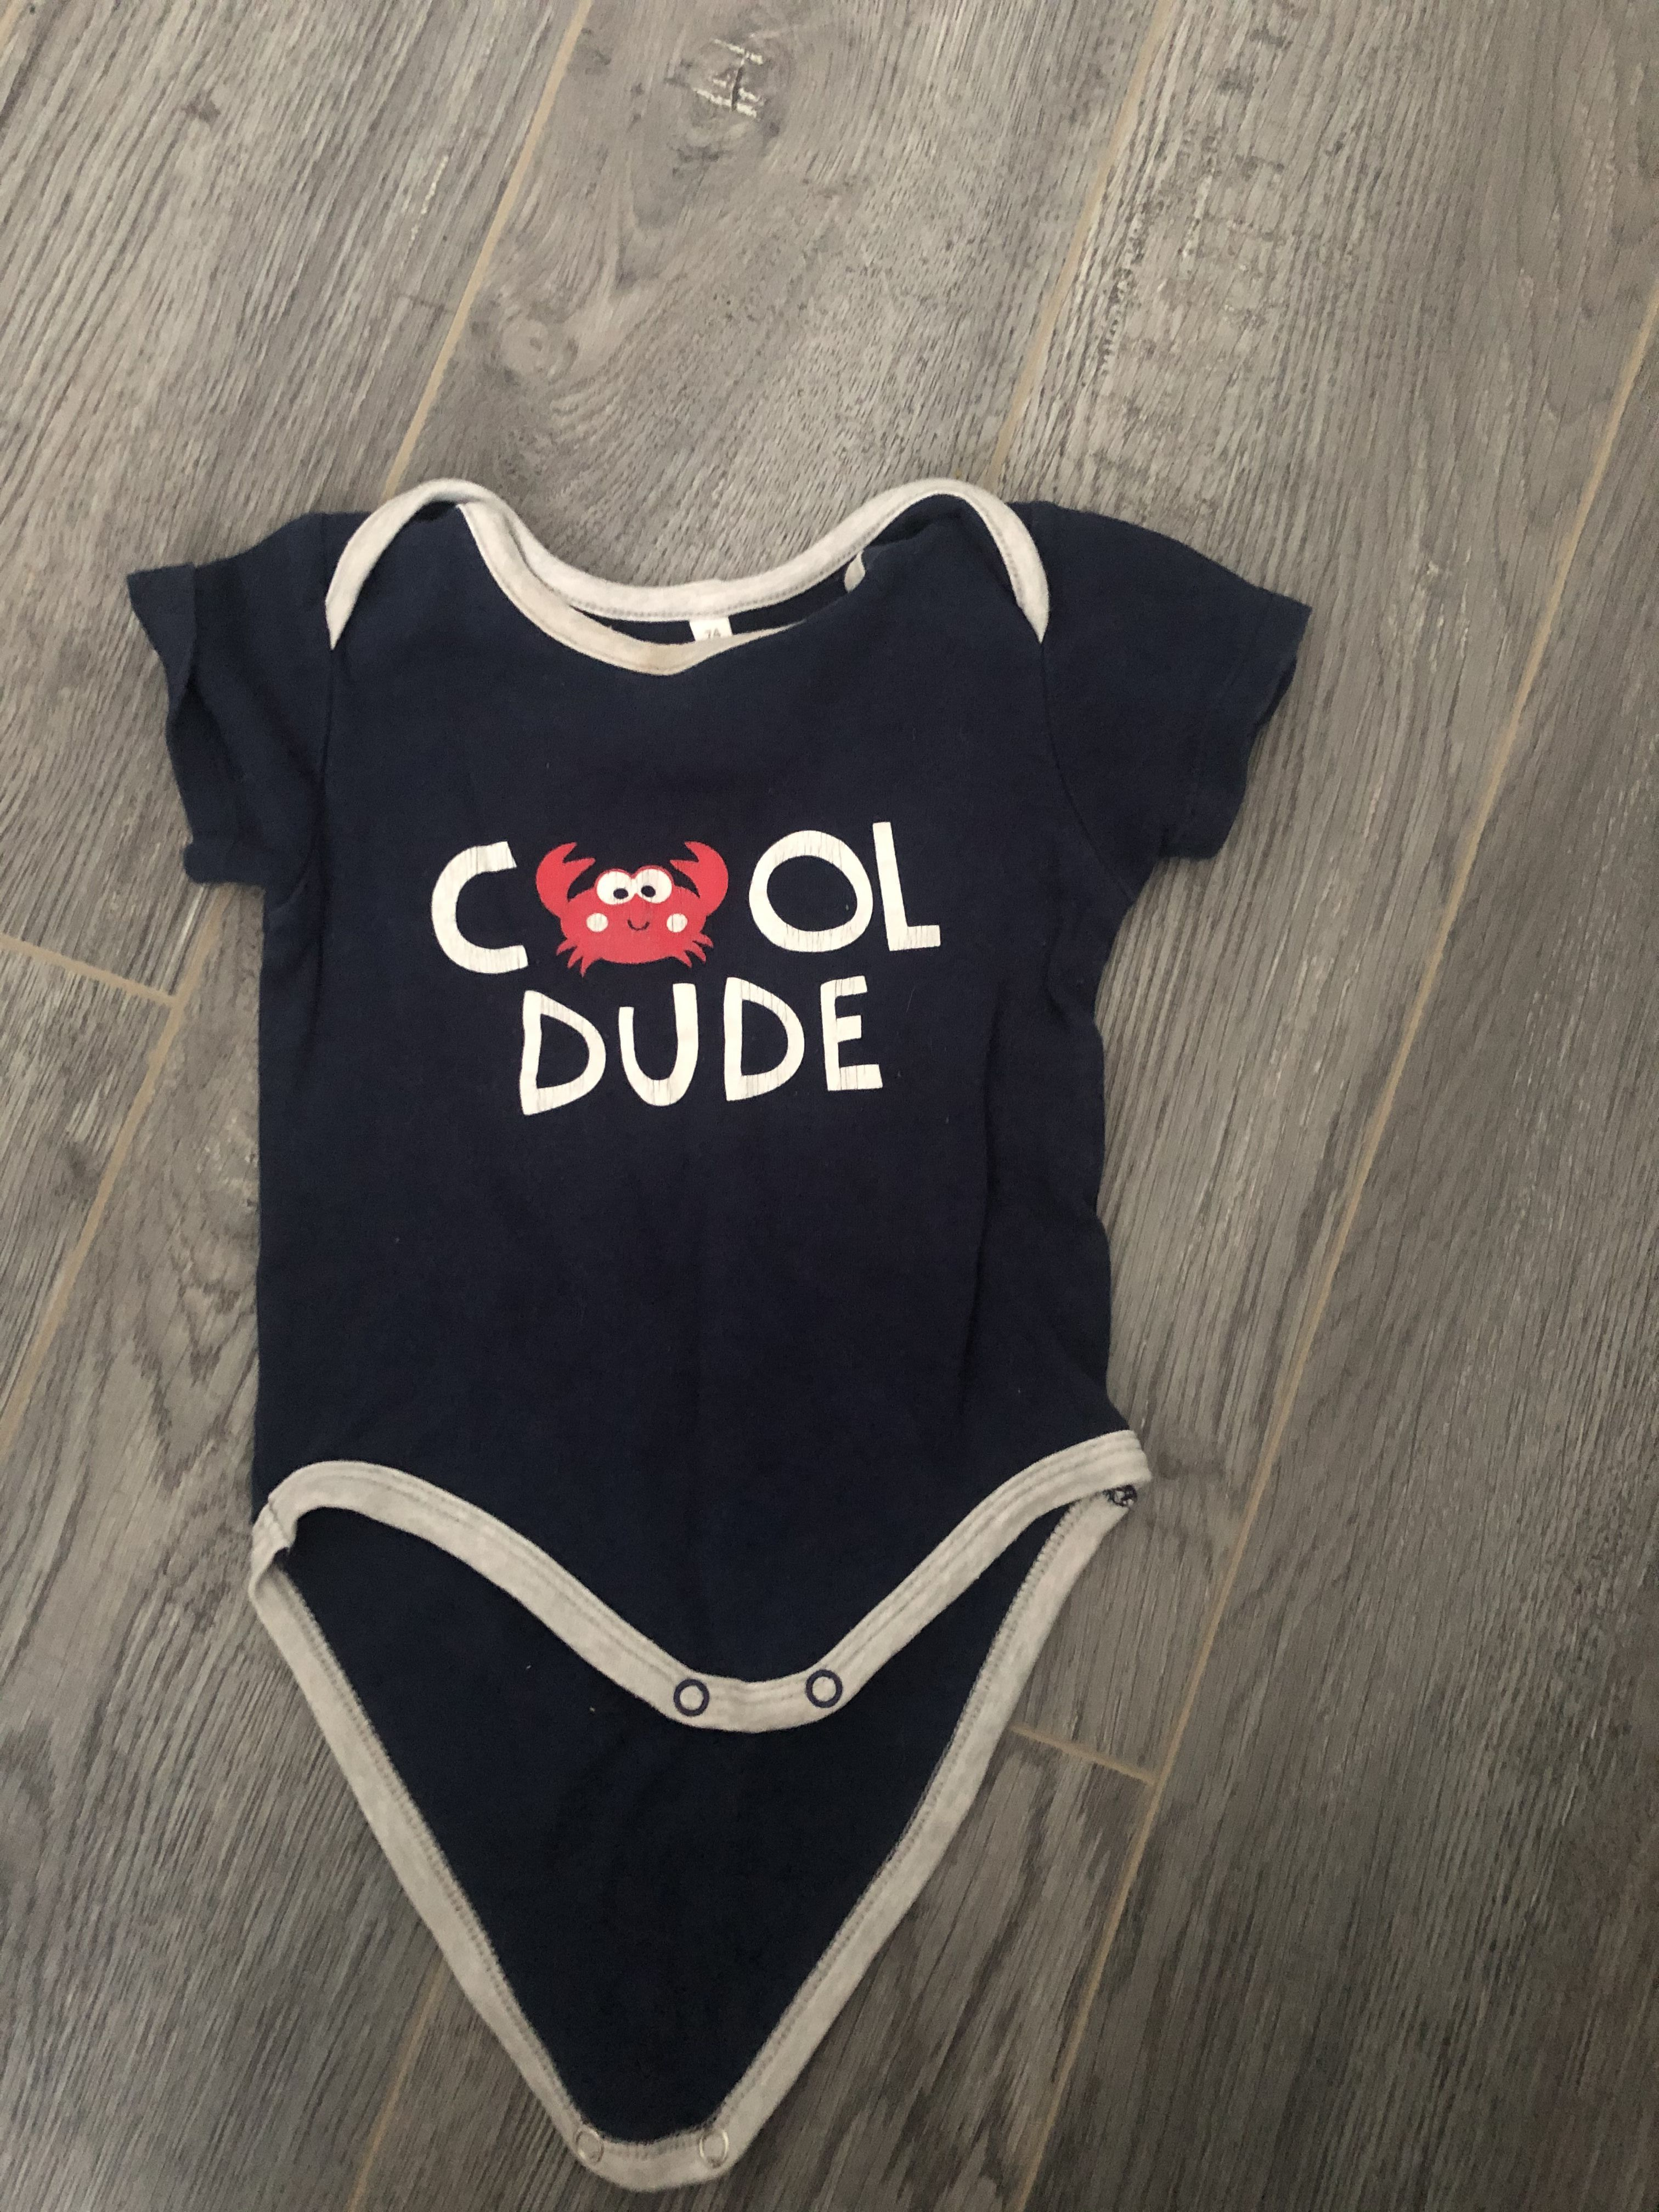clothes: (120, 469, 1330, 2142)
